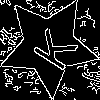K: (24, 21, 79, 73)
